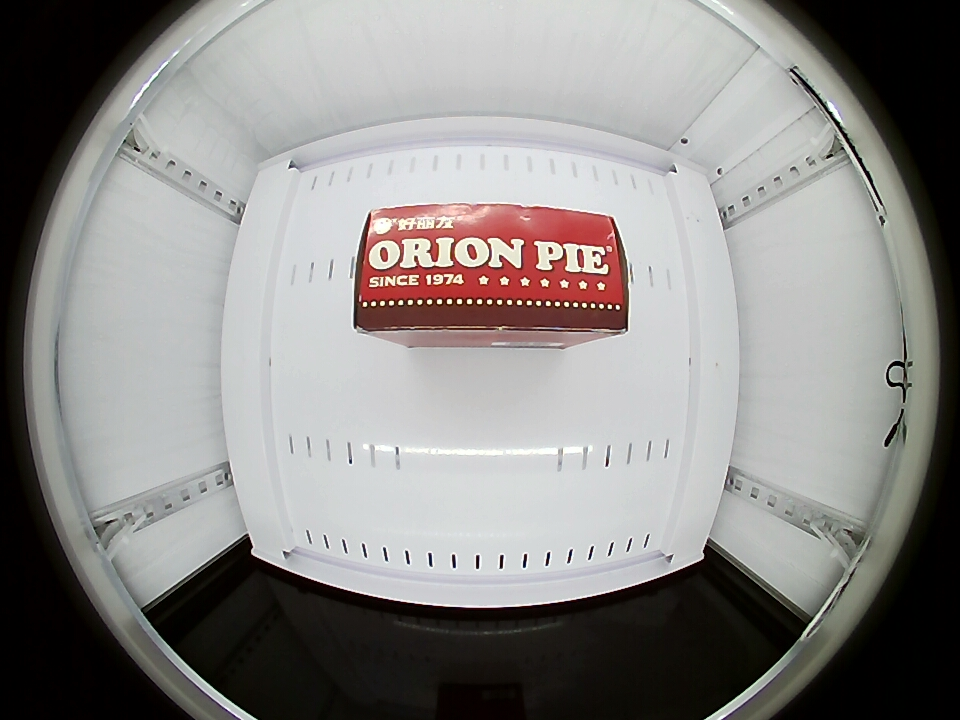haoliyou: (352, 202, 630, 342)
